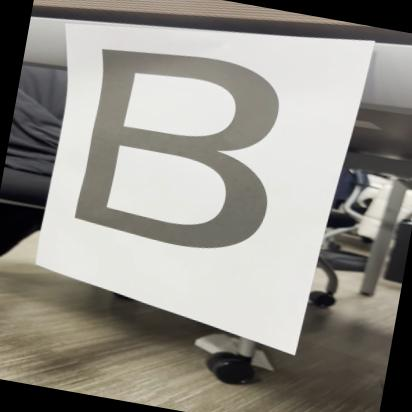seat: (27, 31, 340, 294)
